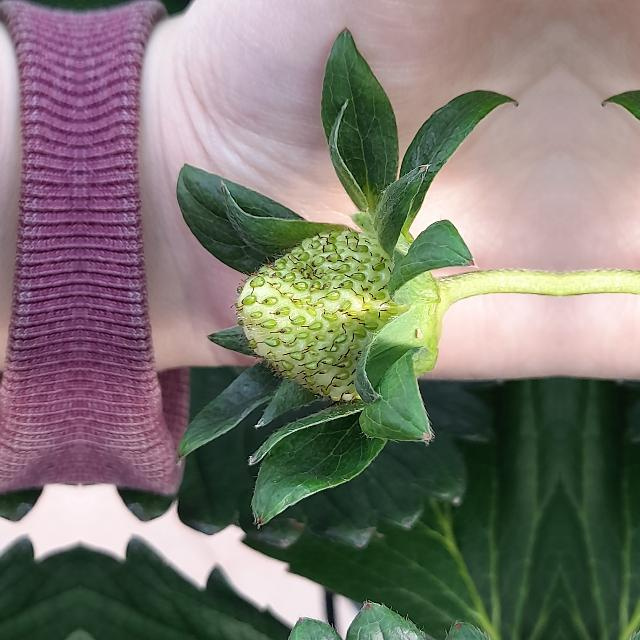Health_25: (230, 228, 406, 402)
